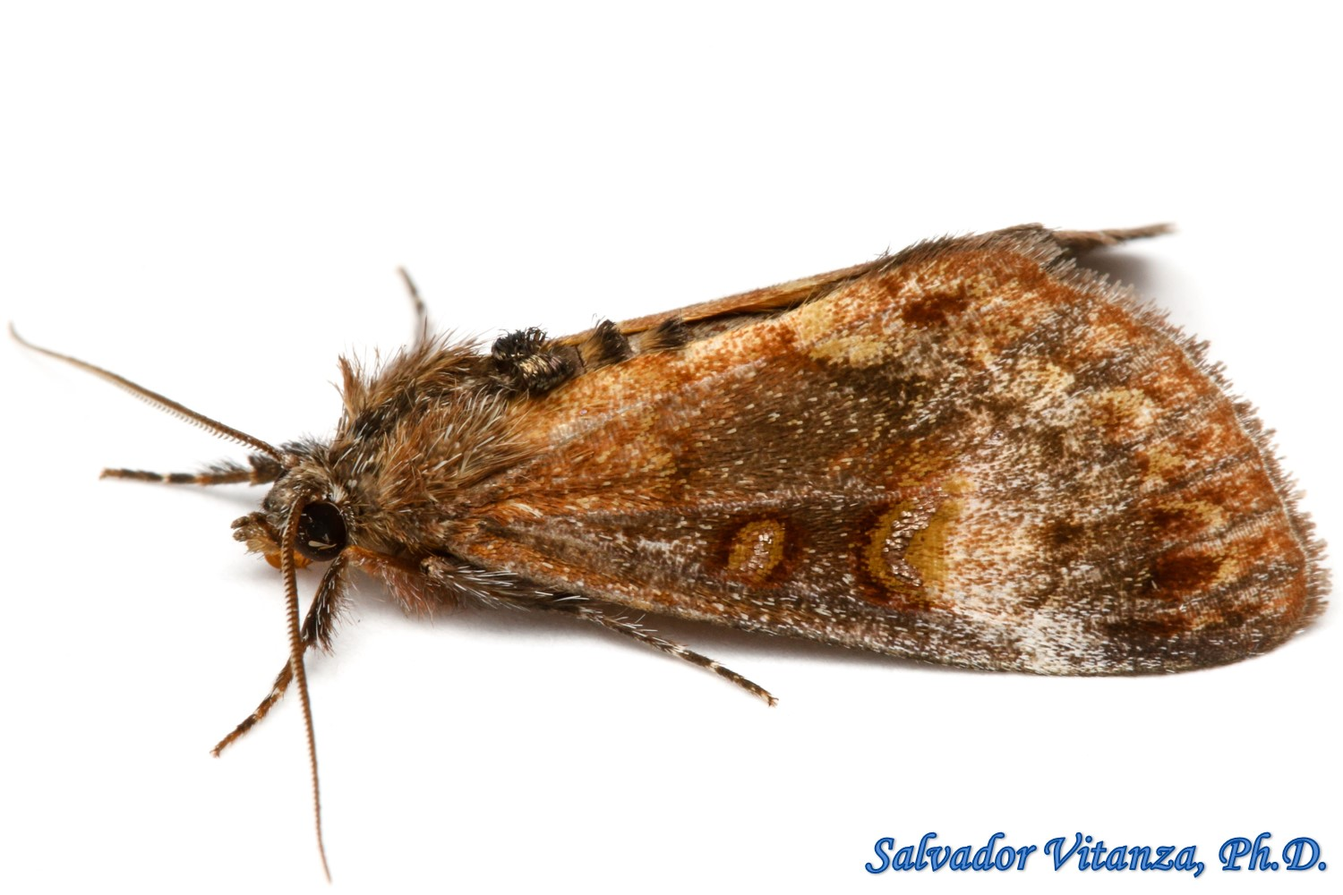Noctuidae: (10, 190, 1343, 852)
